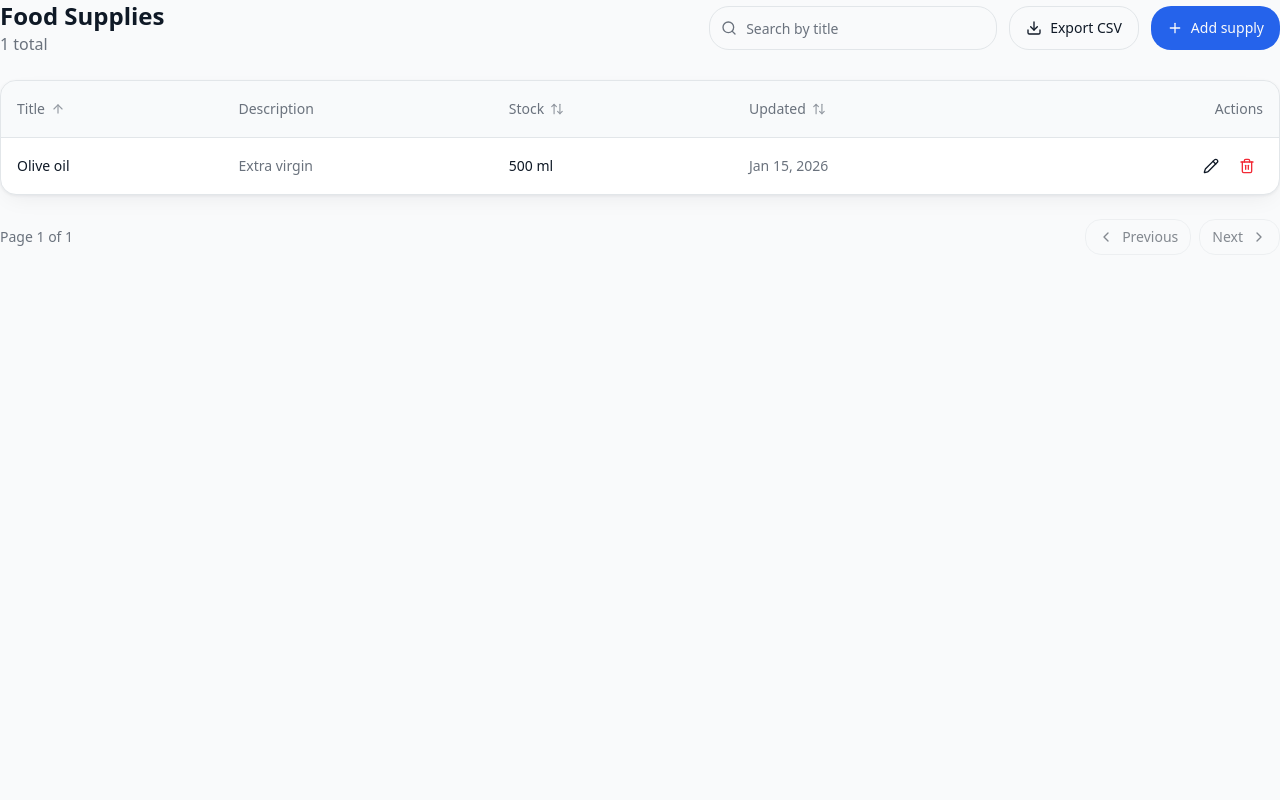
Test: AdminFoodSuppliesPage › shows manual edit history after quantity save and refetches detail
Expected: the text "Olive oil" is shown, [17,156,70,176]
Click the button named "Edit food supply": x=1211, y=166 [1195,150,1227,182]
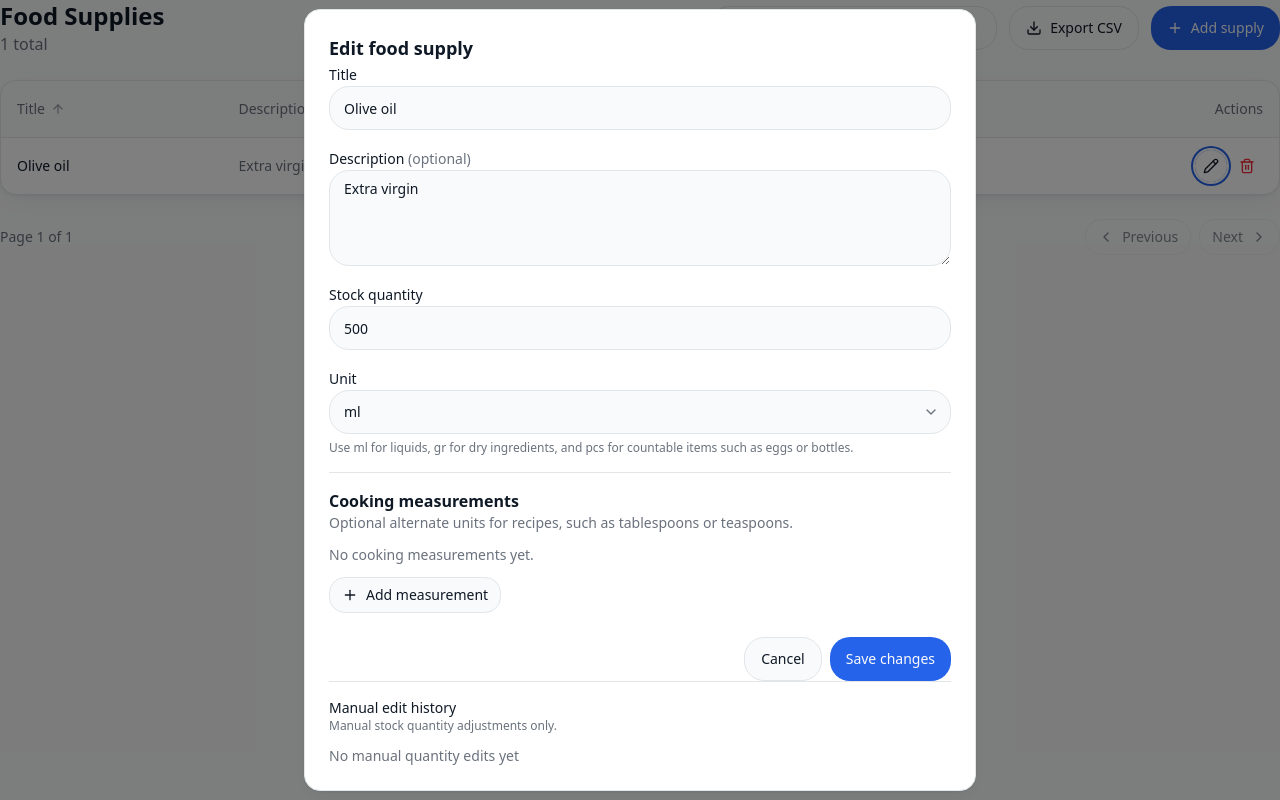
Result: the text "No manual quantity edits yet" is shown at [329,746,519,765]
Replace the text in the number field labelled "Stock quantity" with "600": x=640, y=328 [329,306,951,350]
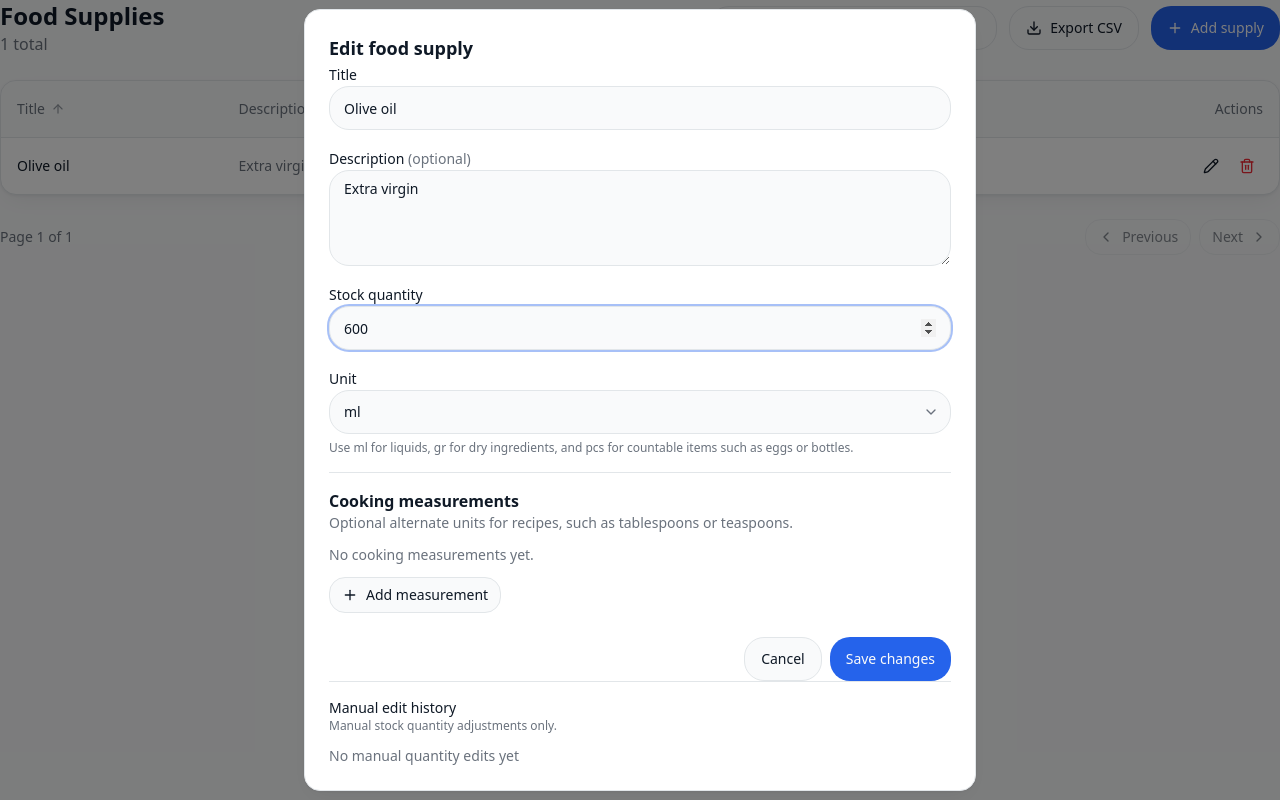
Click the button "Save changes": x=890, y=659 [830,637,951,681]
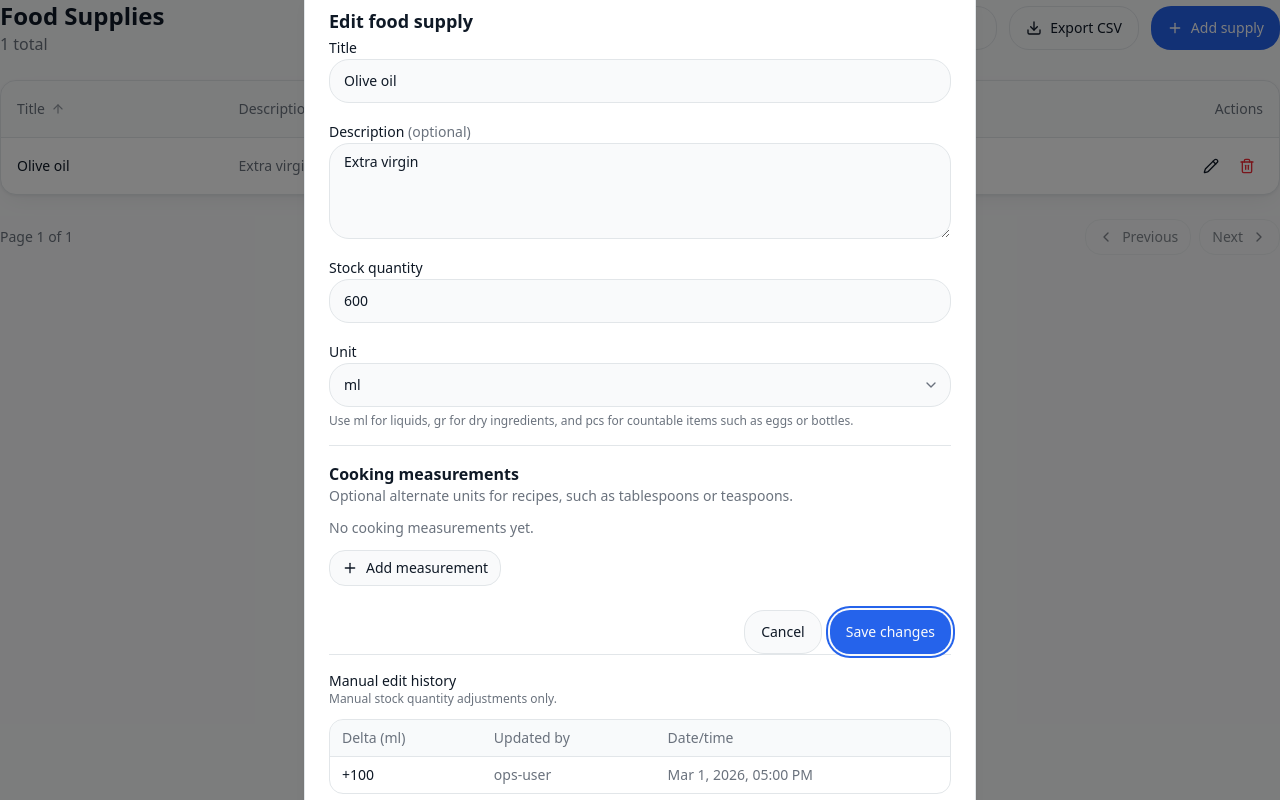
Result: the text "+100" is shown at [330,756,482,792]
Result: the text "ops-user" is shown at [482,756,656,792]
